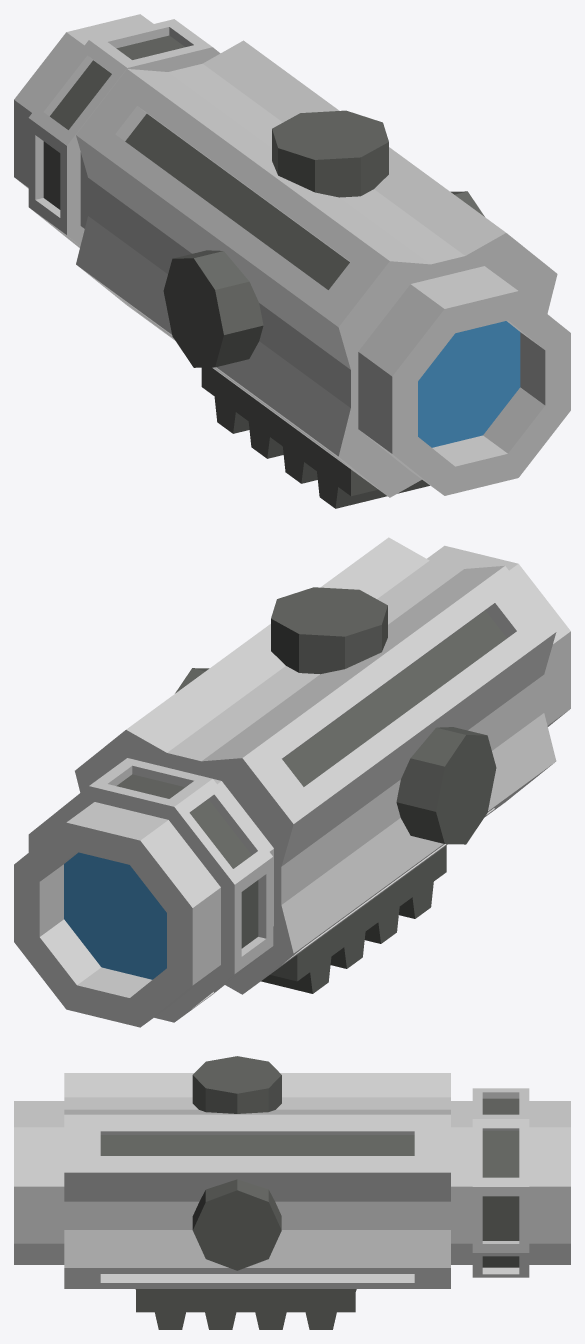
Rendered from Scope 2x_Green.fbx.
3 renders of one model, top to bottom at view 1: azimuth 30°, elevation 25°; view 2: azimuth 150°, elevation 25°; view 3: azimuth 270°, elevation 25°, orthographic. The views are drawn at different scales.
Visible parts, largest first — view 1: Scope 2x.001; view 2: Scope 2x.001; view 3: Scope 2x.001.
Part boxes in pixels (<box>): Scope 2x.001: <box>14,14,570,508</box>; Scope 2x.001: <box>14,537,570,1027</box>; Scope 2x.001: <box>14,1056,570,1329</box>.
Bounding box in the file's own units: 38.92 × 43.8 × 93.04.
